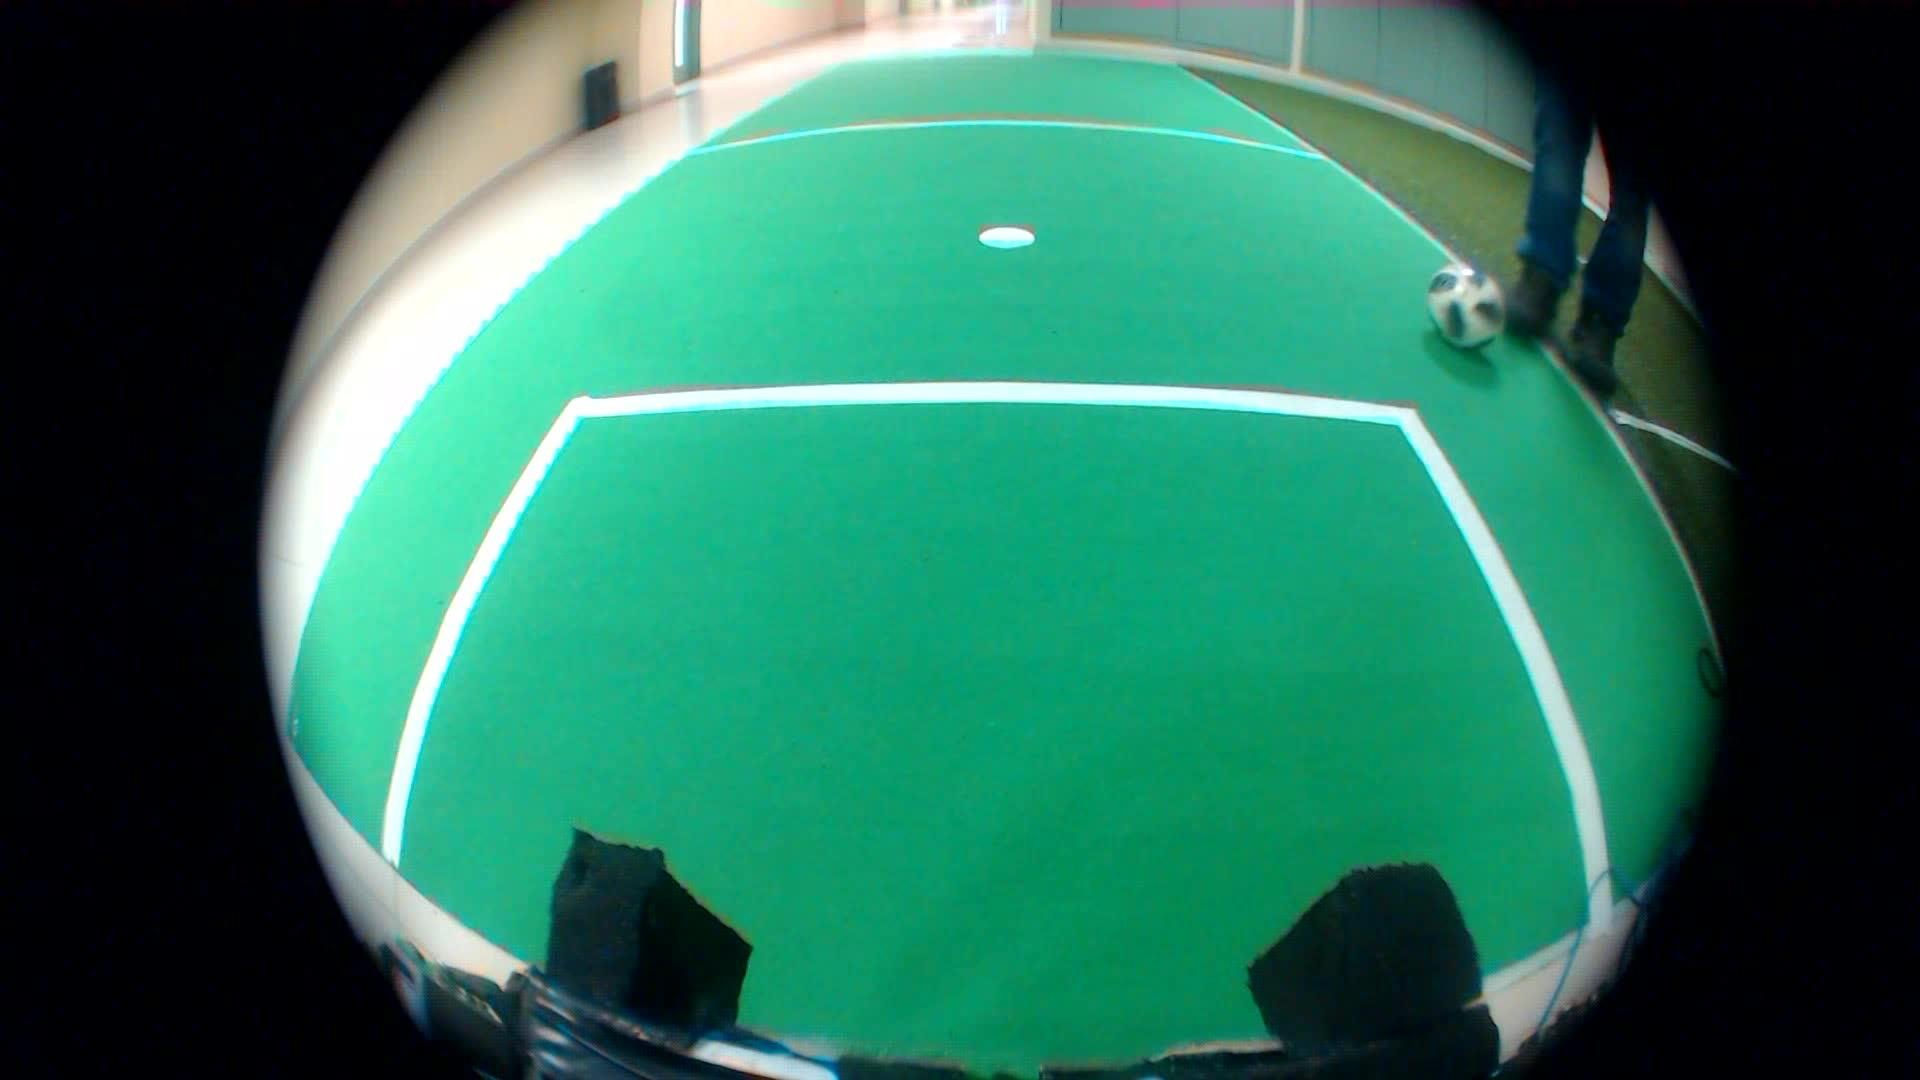ball: (1410, 262, 1497, 359)
